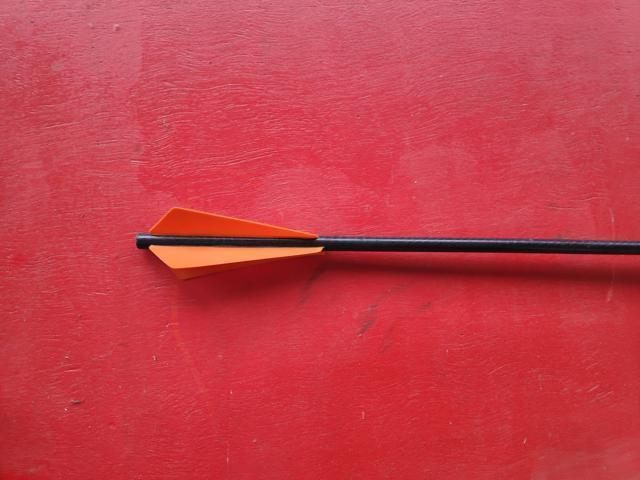Tail: (125, 206, 328, 282)
